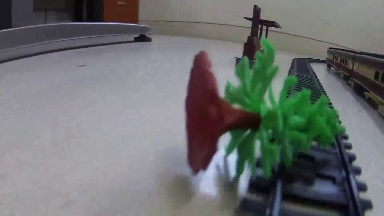tree: (184, 38, 347, 180)
